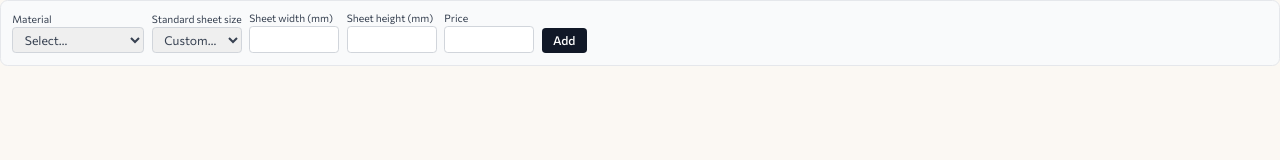
it: MaterialAdmin › adds a catalog material to the org with sheet dims + price, then reflects it
The image size is (1280, 160).
Select "3mm plywood" in the dropdown labelled "Material" at x=78, y=40, box [12, 27, 144, 53]
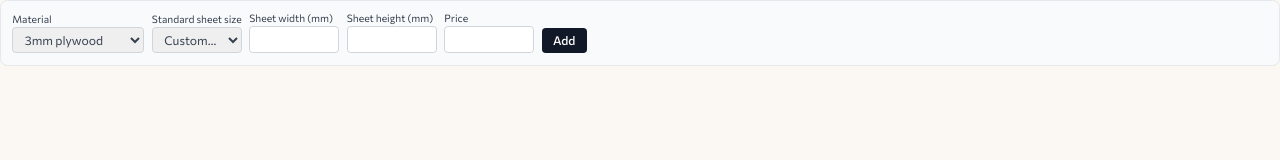
Type "600" into the number field labelled "Sheet width (mm)" at x=294, y=40, box [249, 26, 339, 53]
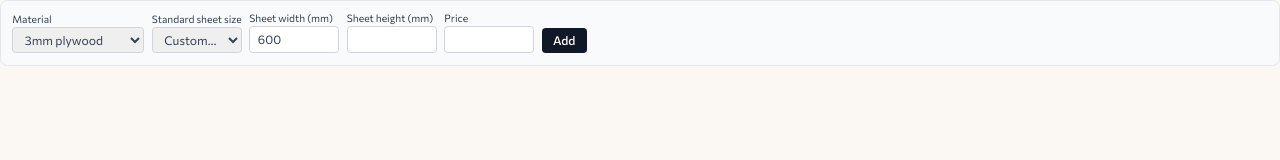
Type "400" into the number field labelled "Sheet height (mm)" at x=392, y=40, box [347, 26, 437, 53]
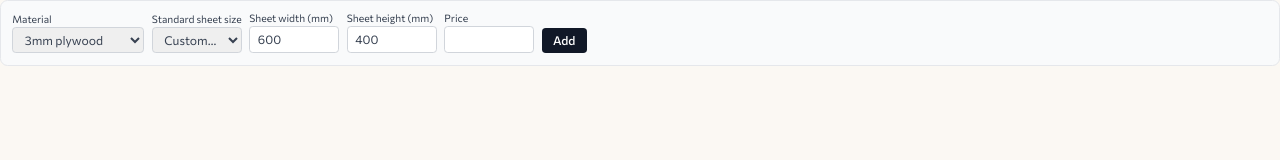
Type "30" into the number field labelled "Price" at x=489, y=40, box [444, 26, 534, 53]
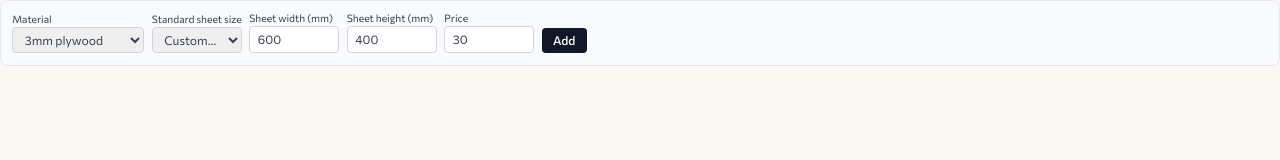
Click the button "Add" at x=564, y=41, box [542, 28, 587, 53]
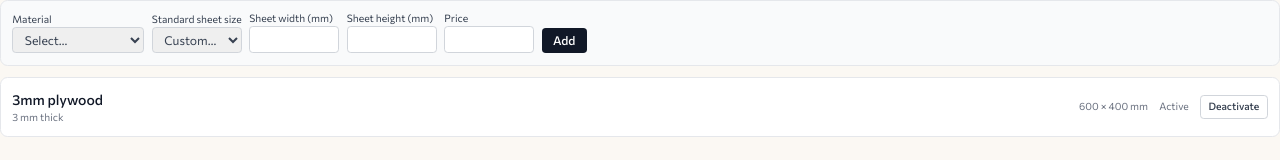
Now the text "600 × 400 mm" is shown, box [1079, 100, 1148, 114]
